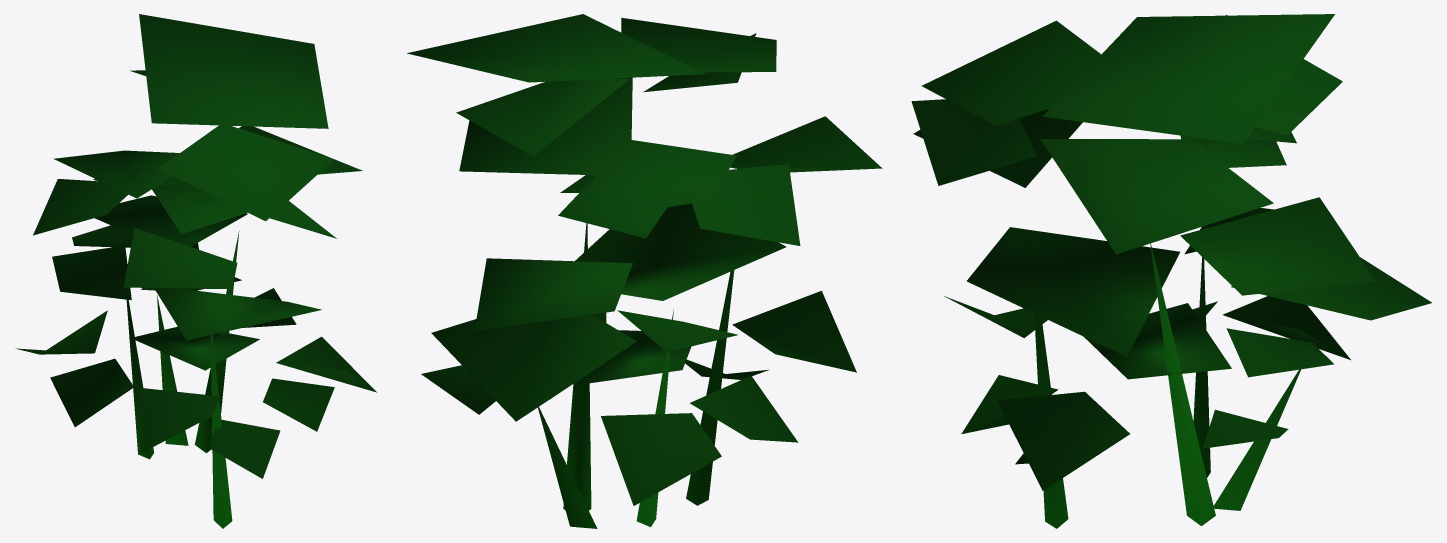
File: env_nature_foliage_padplant02_lod2.fbx
The picture shows the model from 3 angles, left to right: view 1: azimuth 30°, elevation 25°; view 2: azimuth 150°, elevation 25°; view 3: azimuth 270°, elevation 25°; orthographic projection. The views are drawn at different scales.
Parts seen in each view (by area): view 1: env_nature_foliage_padplant02_lod2; view 2: env_nature_foliage_padplant02_lod2; view 3: env_nature_foliage_padplant02_lod2.
Boxes of the visible parts, bbox=[...] form: env_nature_foliage_padplant02_lod2: bbox=[16, 14, 376, 528]; env_nature_foliage_padplant02_lod2: bbox=[407, 14, 882, 528]; env_nature_foliage_padplant02_lod2: bbox=[911, 14, 1431, 528].
Bounding box in the file's own units: 8.28 × 10.99 × 9.85.
